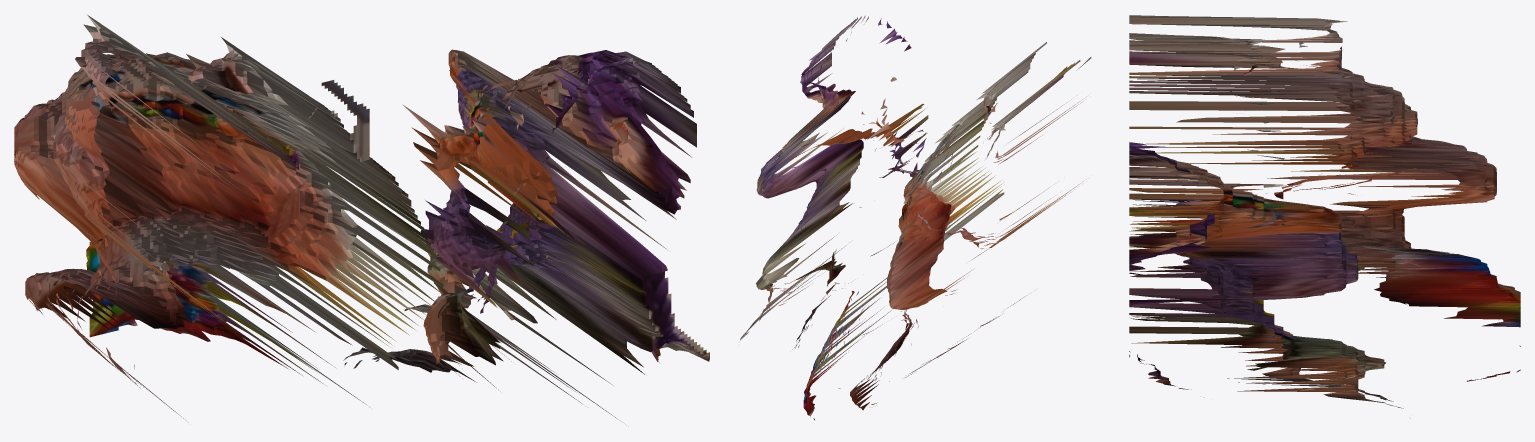
Rendered from frame_00380.glb.
3 views of the same model, side by side, from view 1: azimuth 30°, elevation 25°; view 2: azimuth 150°, elevation 25°; view 3: azimuth 270°, elevation 25° (orthographic). The views are drawn at different scales.
Parts seen in each view (by area): view 1: geometry_0; view 2: geometry_0; view 3: geometry_0.
Part boxes in pixels (x1,y1,x2,y2): geometry_0: [14, 14, 709, 422]; geometry_0: [740, 15, 1091, 420]; geometry_0: [1129, 15, 1520, 418].
Size of the model in its own units: 0.1476 by 0.1445 by 0.16.
Materials: 1 (1 with a texture image).
